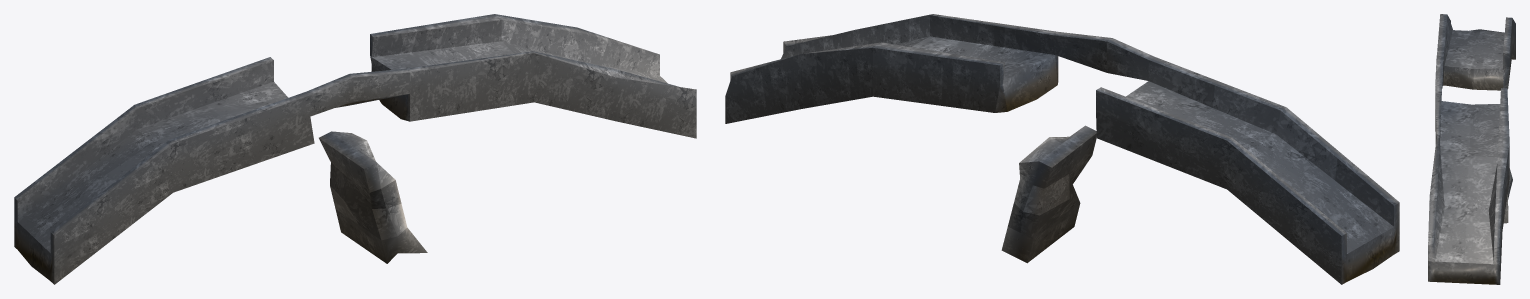
The model's file is PONT.obj.
3 views of the same model, side by side, from view 1: azimuth 30°, elevation 25°; view 2: azimuth 150°, elevation 25°; view 3: azimuth 270°, elevation 25° (orthographic). The views are drawn at different scales.
Visible parts, largest first — view 1: PONT; view 2: PONT; view 3: PONT.
Boxes of the visible parts, bbox=[...] form: PONT: bbox=[14, 14, 696, 284]; PONT: bbox=[725, 14, 1399, 284]; PONT: bbox=[1428, 14, 1515, 284].
Size of the model in its own units: 24.01 by 7.23 by 3.9.
1 material, 1 textured.
